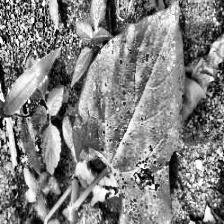ALS: (80, 0, 183, 224)
